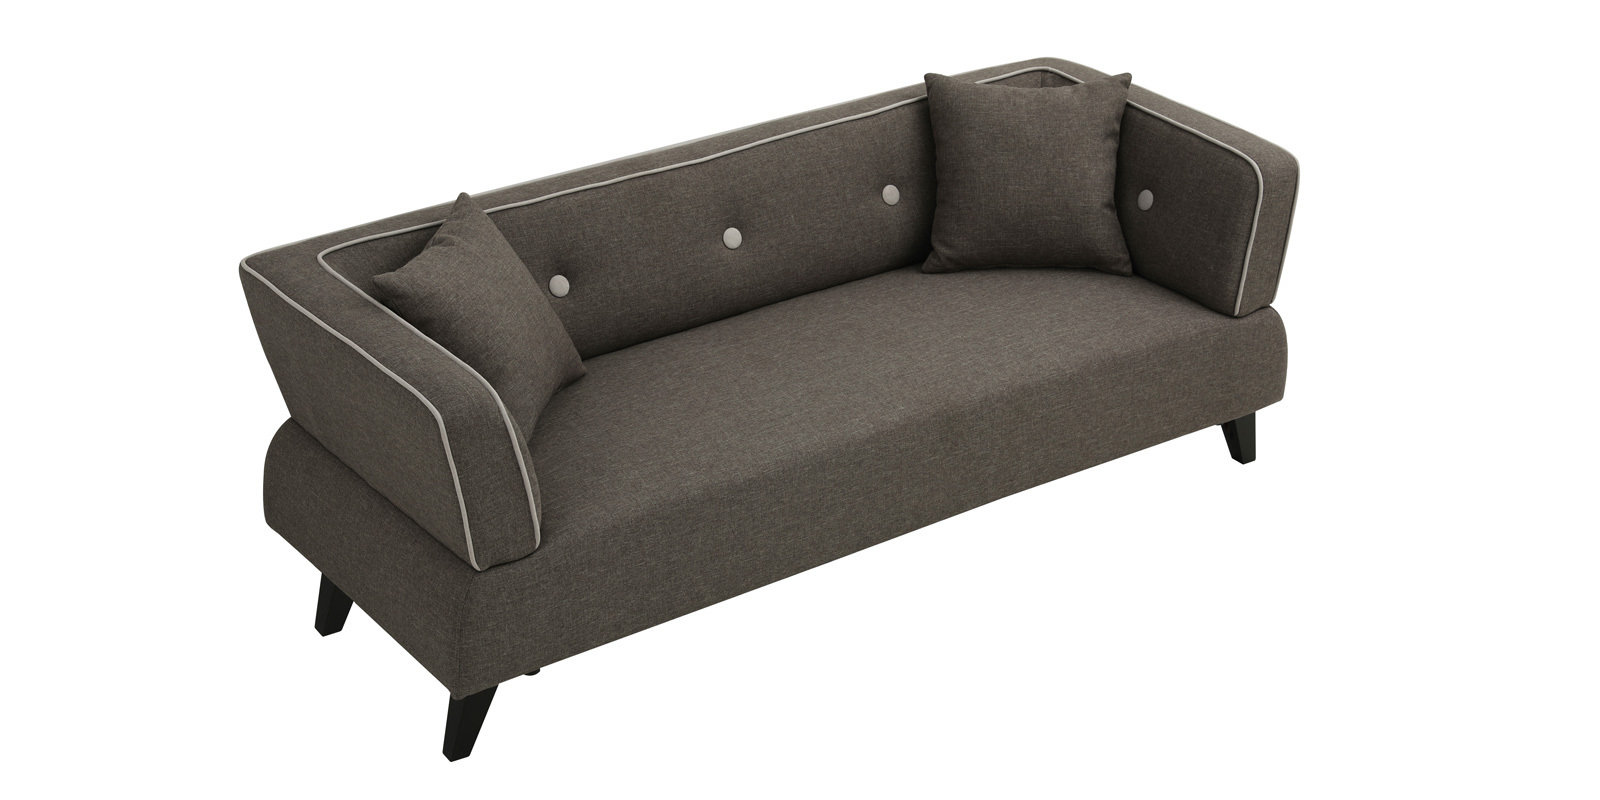Dime Three Seater Sofa in Grey Colour by Zofa: (208, 37, 1379, 768)
